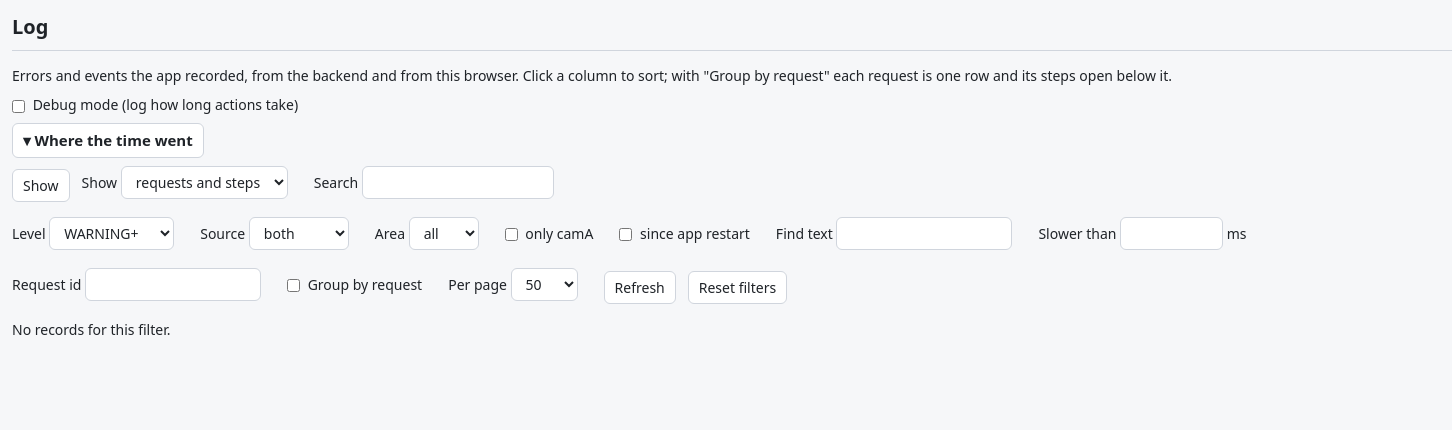
the debug switch is sent to the backend, and the timing table loads on demand
Click the checkbox labelled "Debug mode (log how long actions take)".
click(18, 106)  # box [12, 100, 25, 113]
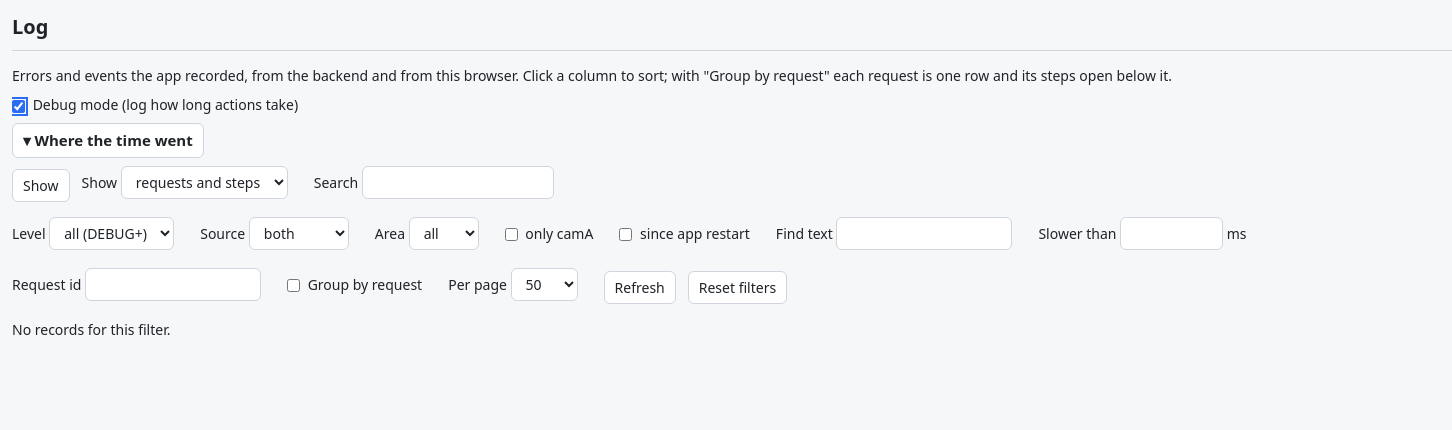
Click the button "Show".
click(41, 185)  # box [12, 168, 70, 202]
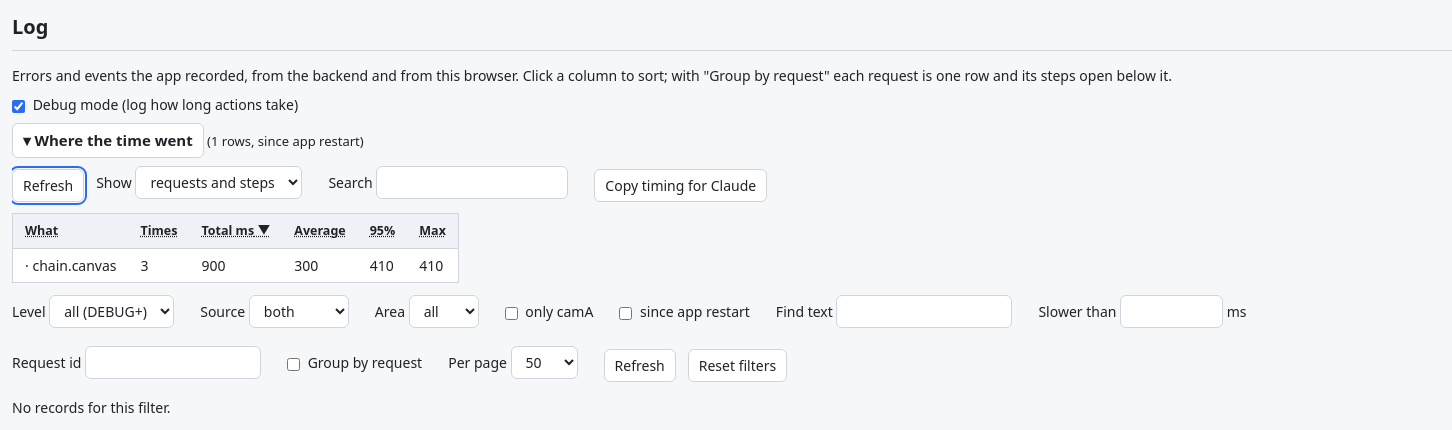
Expected: the text "· chain.canvas" is shown, [12, 249, 128, 283]
